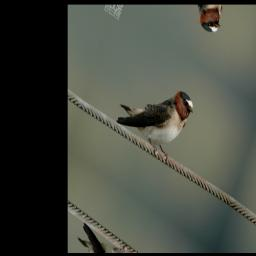Swallow: (112, 54, 200, 170)
